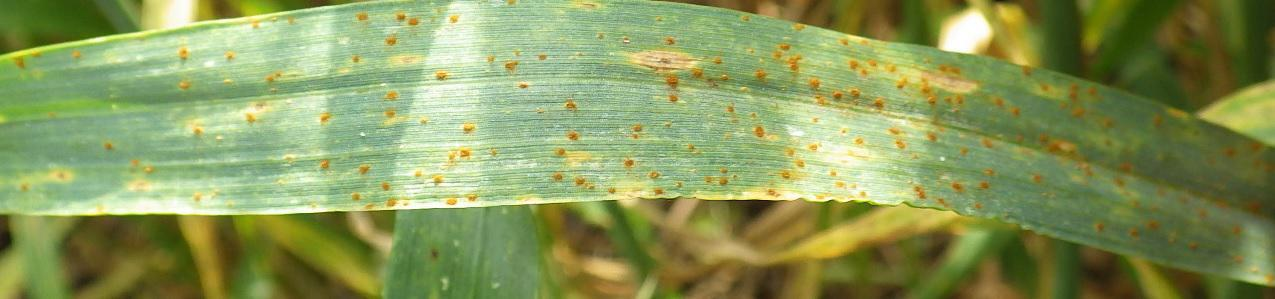Wheat: (21, 74, 1041, 200), (181, 34, 853, 73), (1055, 112, 1179, 235)
